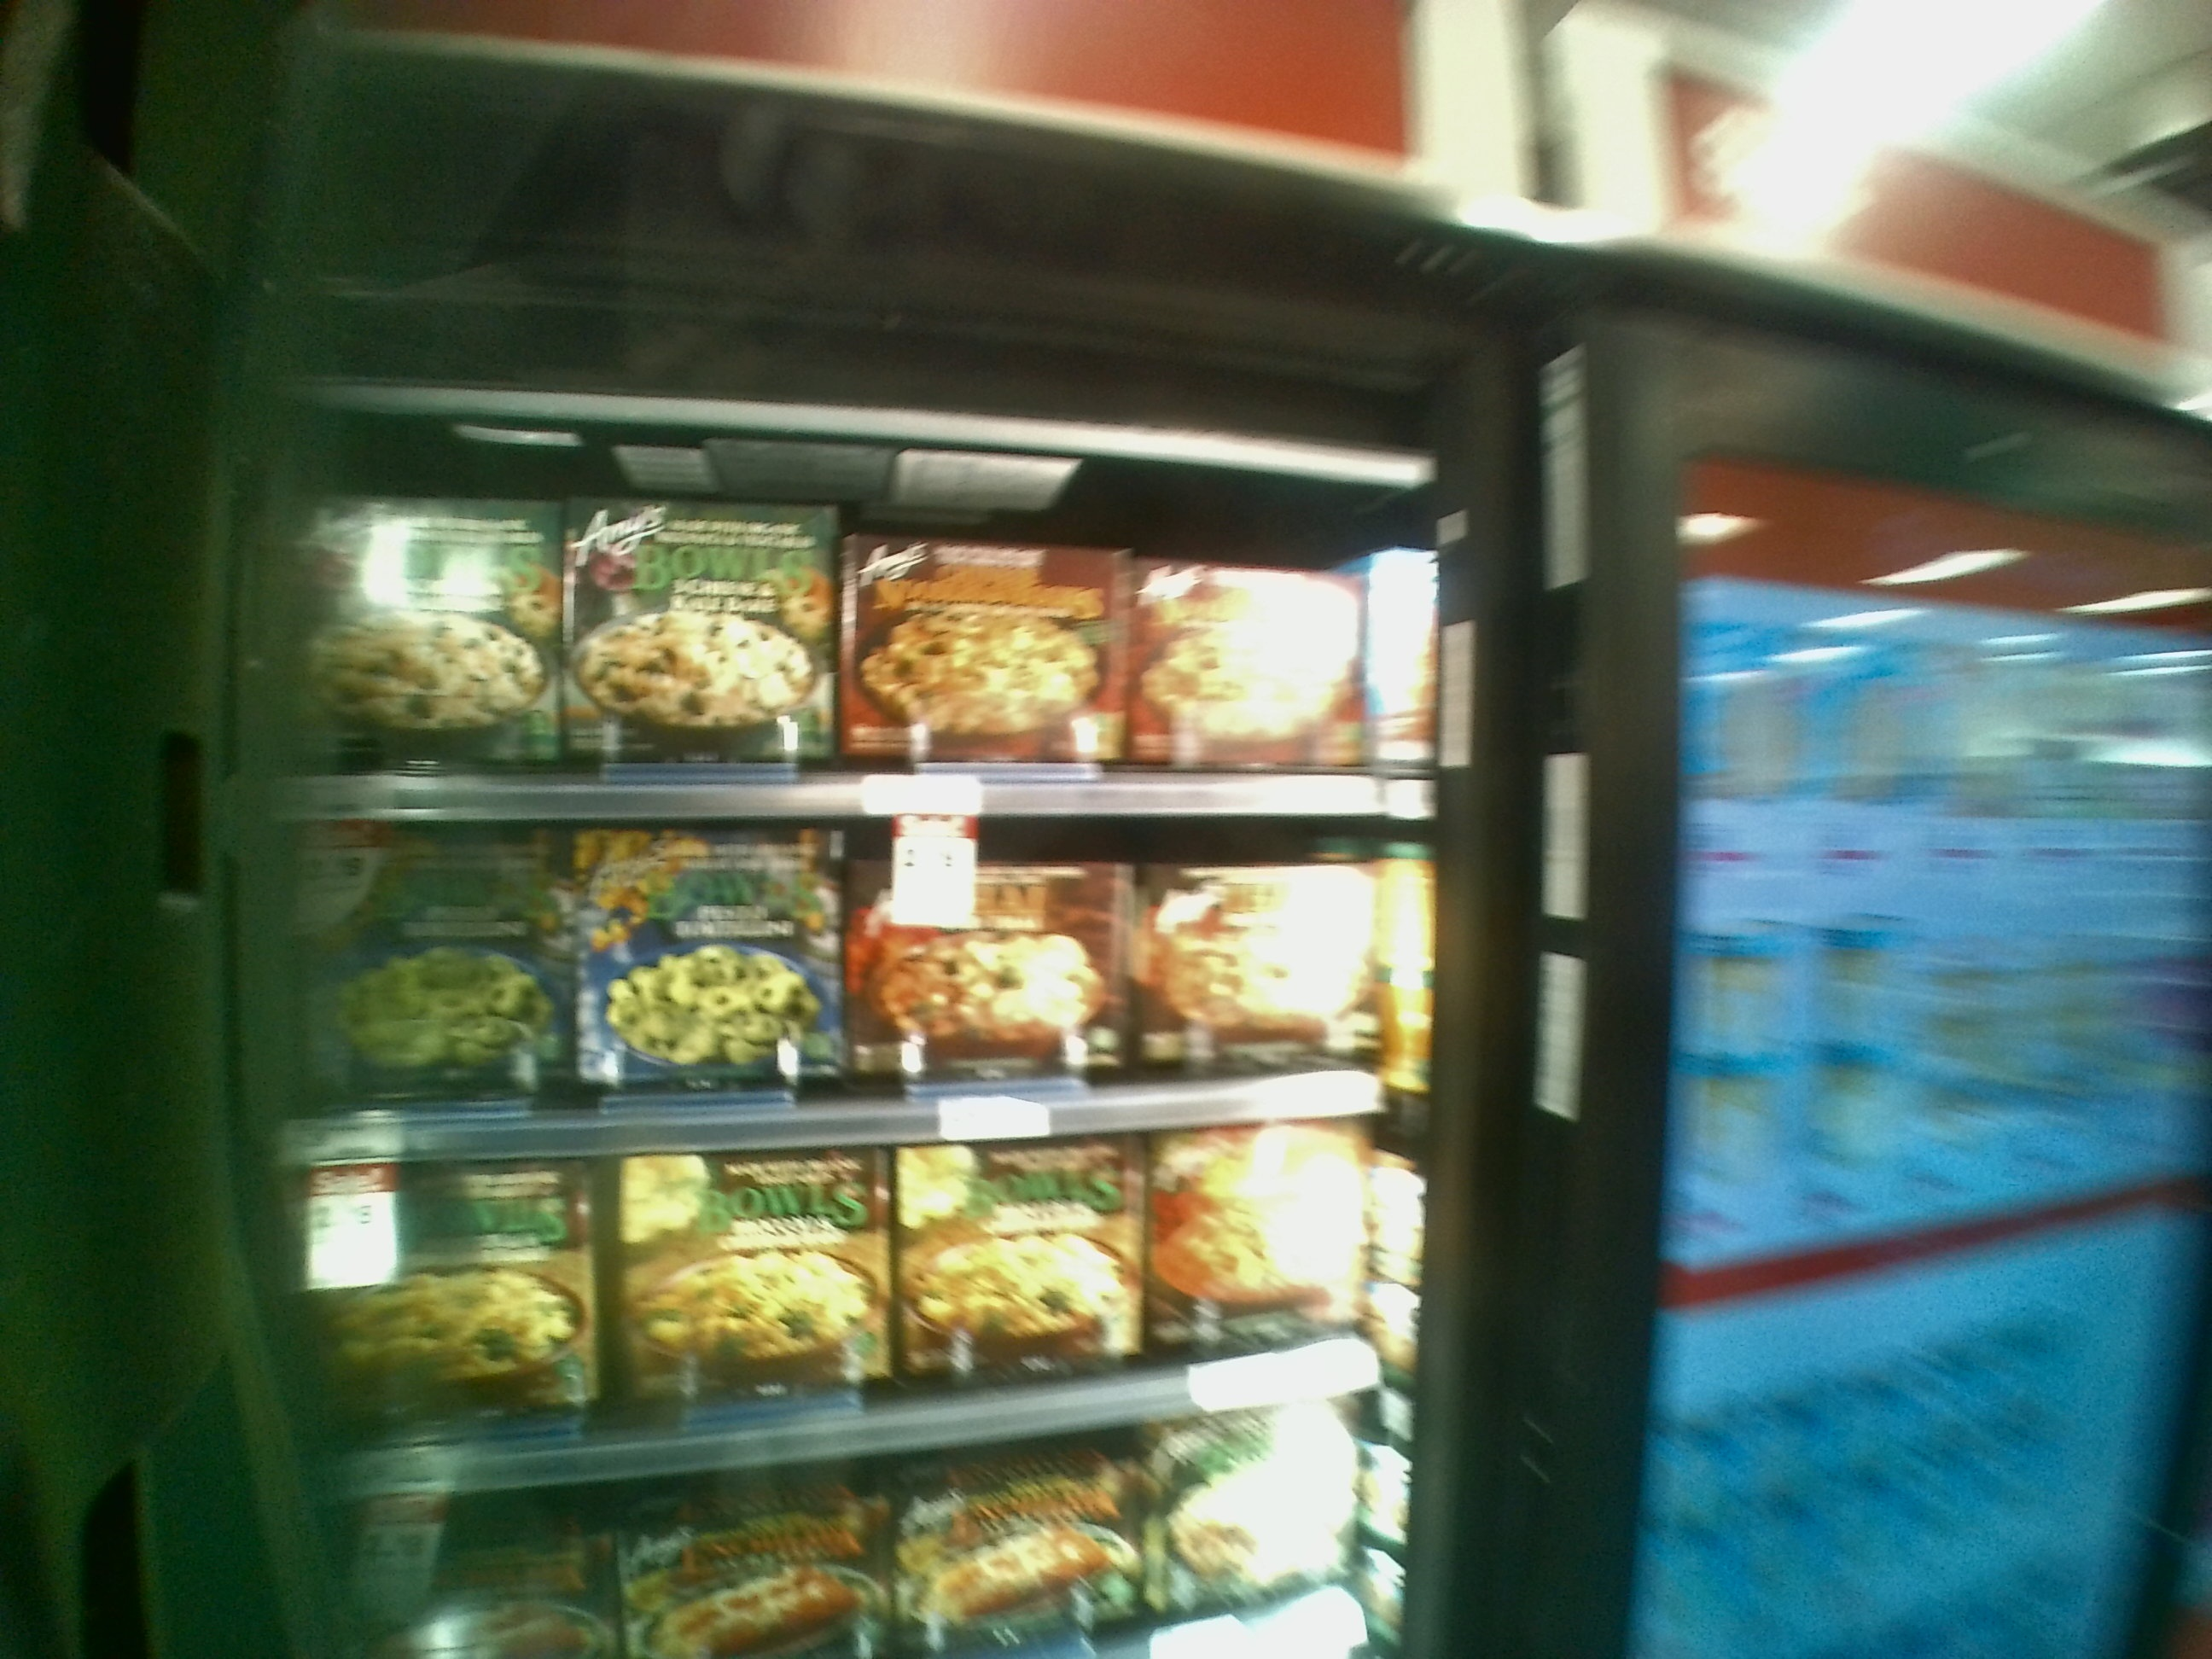shelf: (279, 443, 1433, 819), (277, 823, 1395, 1157), (317, 1162, 1409, 1481)
